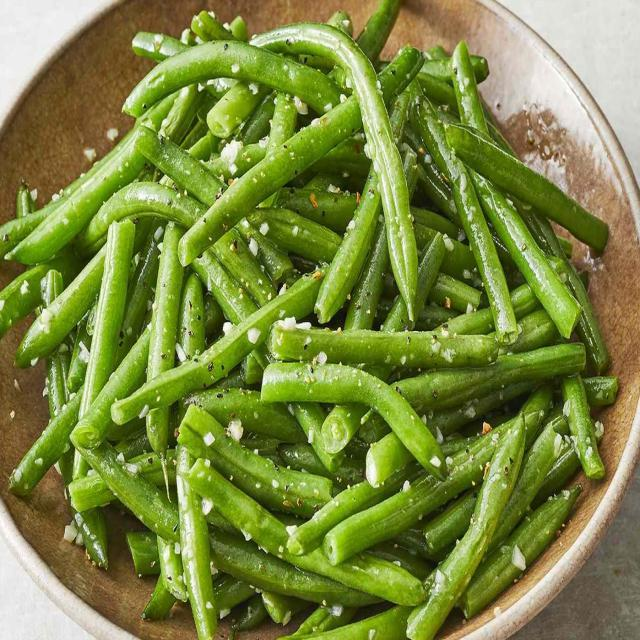Beans: (0, 20, 635, 639)
